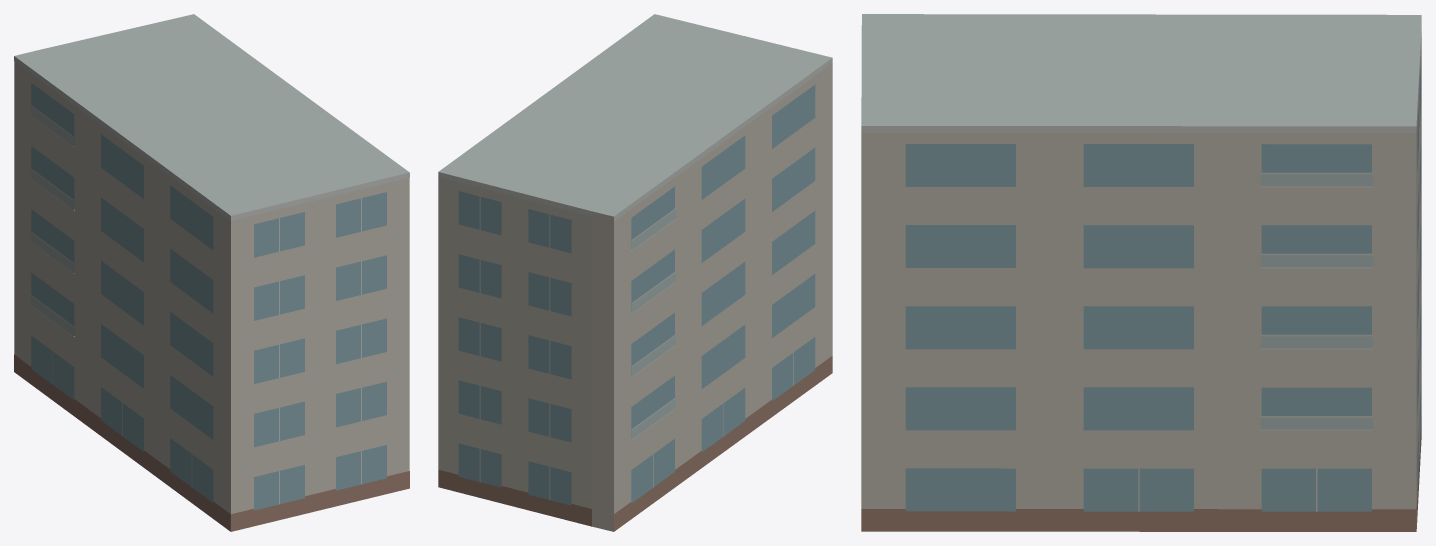
The model's file is survey-upis-32824679.glb.
3 renders of one model, left to right at view 1: azimuth 30°, elevation 25°; view 2: azimuth 150°, elevation 25°; view 3: azimuth 270°, elevation 25°, orthographic. The views are drawn at different scales.
Visible parts, largest first — view 1: survey-upis-32824679.tmp; view 2: survey-upis-32824679.tmp; view 3: survey-upis-32824679.tmp.
Part boxes in pixels (<box>): survey-upis-32824679.tmp: <box>14,14,409,531</box>; survey-upis-32824679.tmp: <box>438,14,832,531</box>; survey-upis-32824679.tmp: <box>861,14,1421,531</box>.
Bounding box in the file's own units: 8.8 × 14.75 × 18.48.
